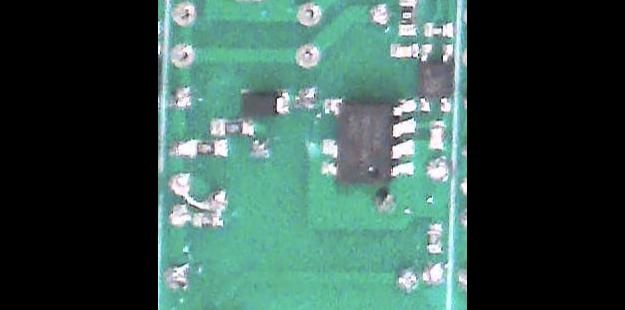chip-capacitor: (428, 118, 446, 150), (389, 40, 419, 58)
chip-resistor: (183, 136, 228, 157), (208, 116, 253, 136), (397, 0, 417, 36), (426, 219, 443, 254), (422, 20, 454, 38), (192, 211, 222, 227)
diode: (241, 87, 290, 117)
ic: (320, 94, 417, 184), (418, 41, 454, 113)
